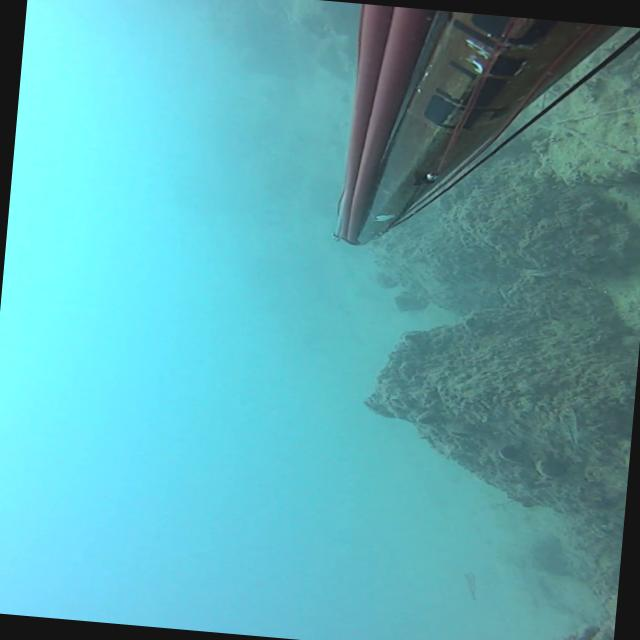Balon Baligi: (554, 406, 584, 462), (462, 570, 478, 600)
